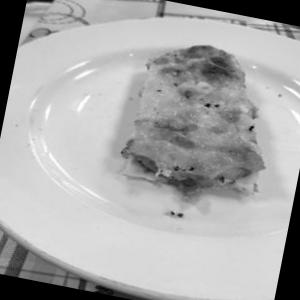cheese_sandwich: (108, 33, 288, 244)
